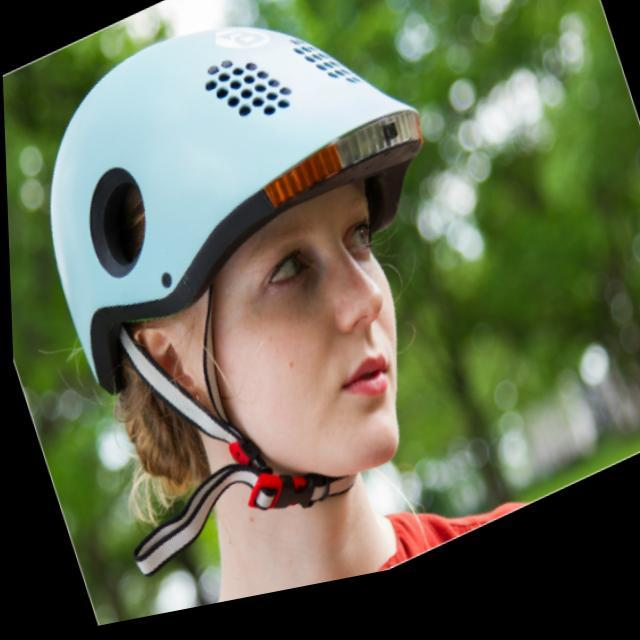Helmet: (36, 14, 448, 494)
